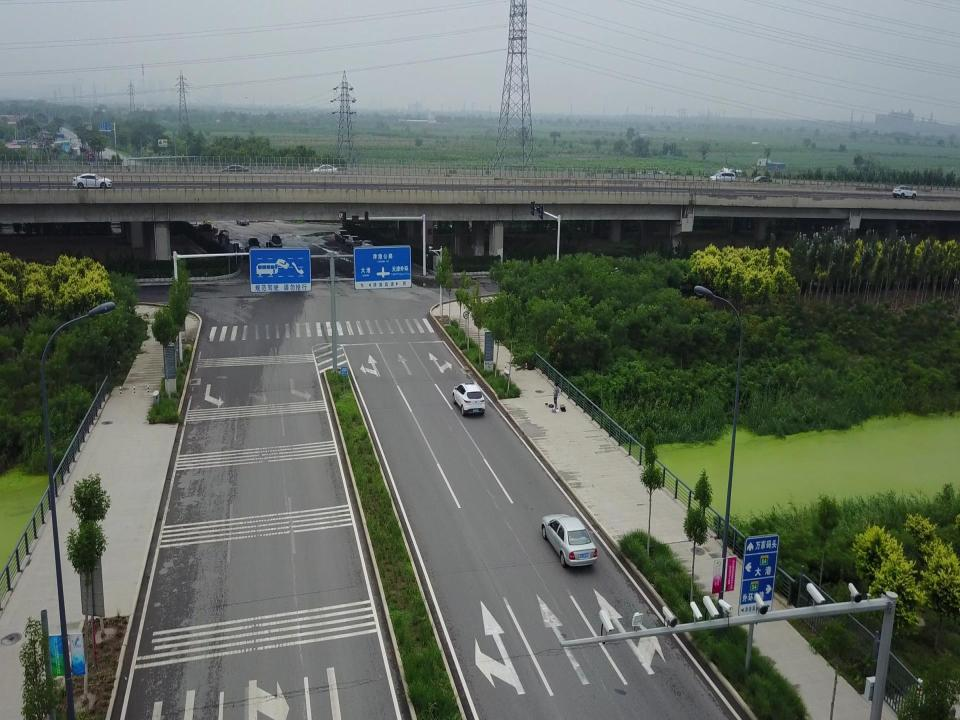car: (541, 513, 598, 571), (450, 381, 487, 418), (70, 170, 112, 188), (216, 163, 252, 178), (892, 185, 918, 200), (708, 170, 740, 182), (308, 164, 340, 175), (245, 236, 261, 258), (268, 233, 284, 252), (747, 174, 774, 185), (332, 228, 350, 243), (360, 239, 378, 253), (346, 235, 364, 249), (219, 229, 231, 246)
truck: (195, 221, 217, 242)
